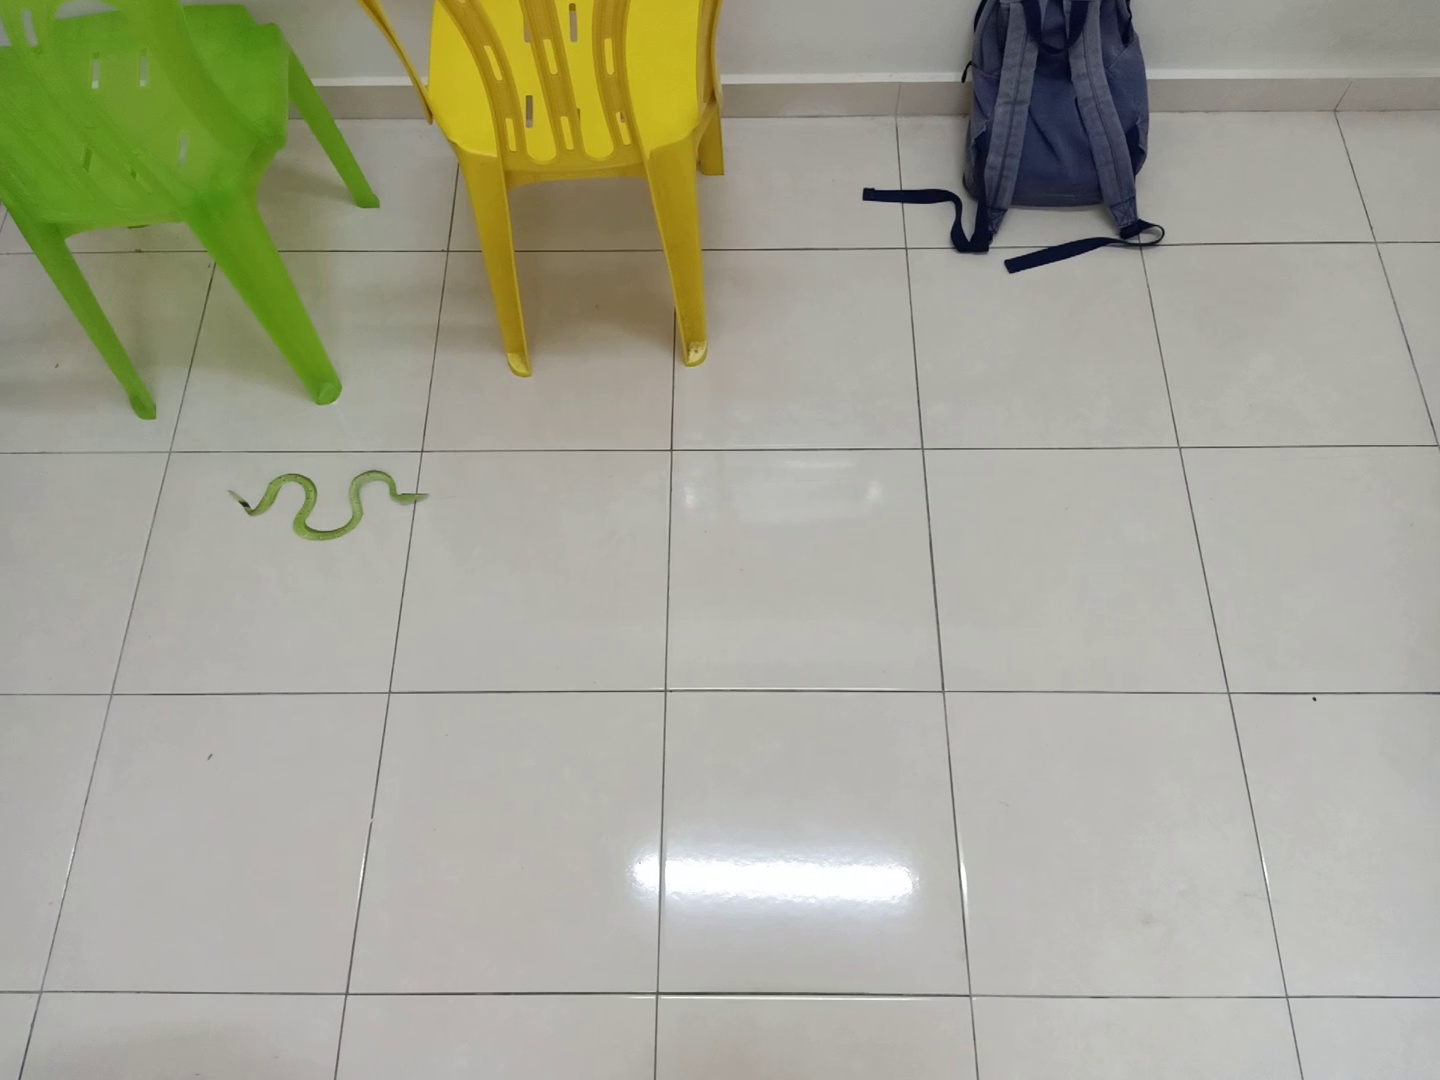snake: (222, 459, 438, 546)
